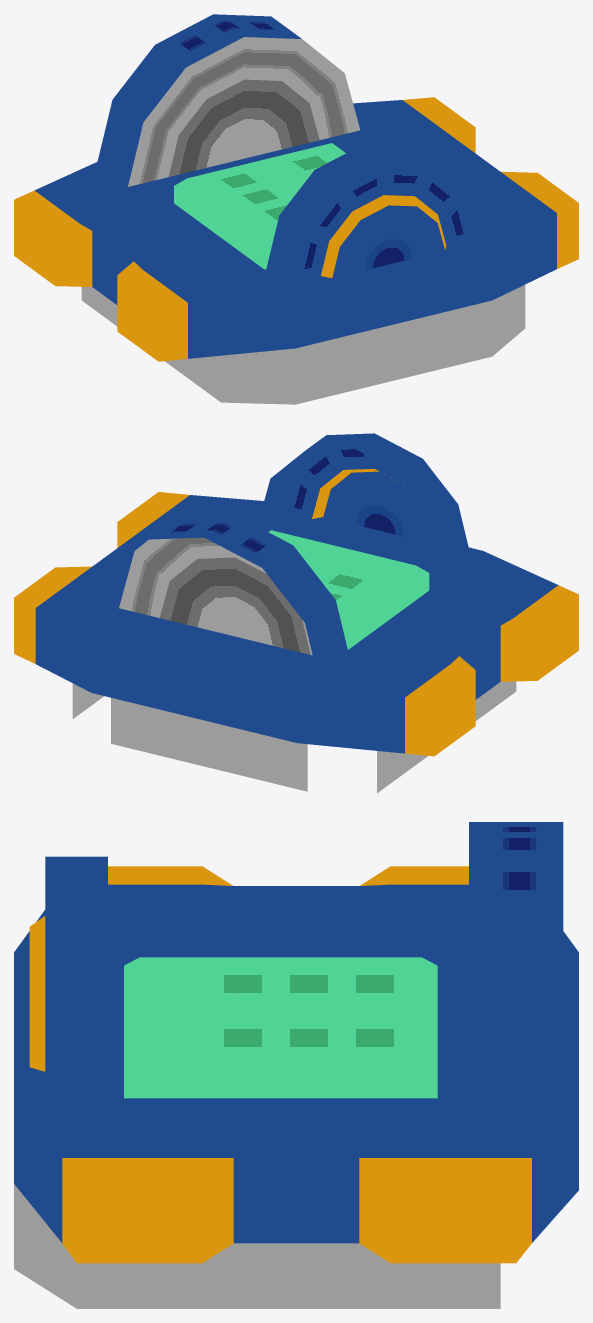
3 views of the same model, one above another, from view 1: azimuth 30°, elevation 25°; view 2: azimuth 150°, elevation 25°; view 3: azimuth 270°, elevation 25° (orthographic). The views are drawn at different scales.
Parts seen in each view (by area): view 1: 00_polygon0; view 2: 00_polygon0; view 3: 00_polygon0.
Boxes of the visible parts, x1,y1,x2,y2 form: 00_polygon0: (14, 14, 578, 404); 00_polygon0: (14, 433, 578, 793); 00_polygon0: (14, 822, 578, 1308).
Bounding box in the file's own units: 0.7344 × 0.3906 × 0.5625.
Materials: 1 (1 with a texture image).
